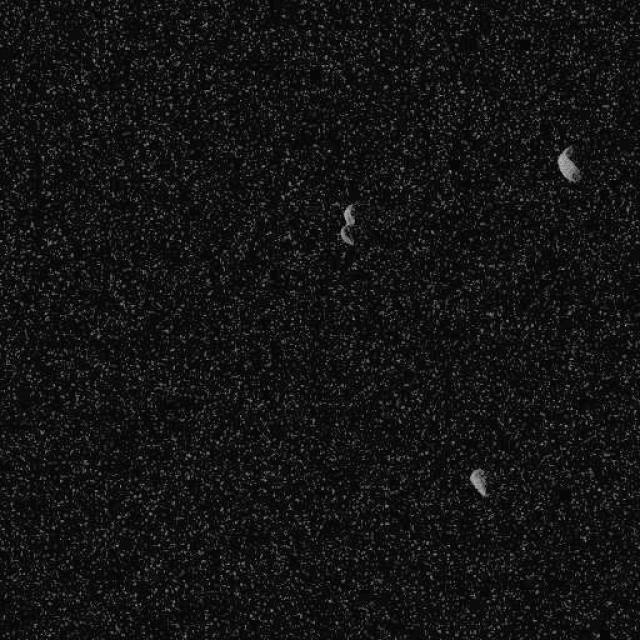D2: (0, 0, 639, 639), (556, 144, 582, 184), (338, 202, 357, 246), (468, 467, 488, 498)
